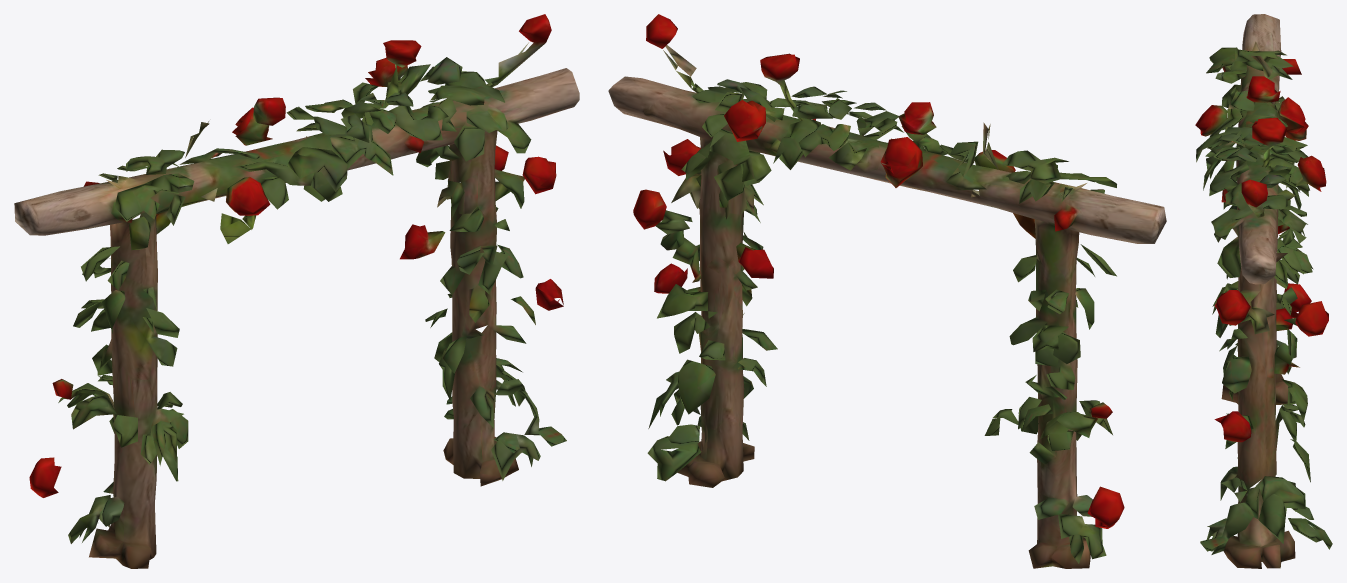
Rendered from rose-vine.glb.
3 views of the same model, side by side, from view 1: azimuth 30°, elevation 25°; view 2: azimuth 150°, elevation 25°; view 3: azimuth 270°, elevation 25° (orthographic). The views are drawn at different scales.
Visible parts, largest first — view 1: tripo_node_b16091c6-176b-4c1c-975e-57cac6b03db9; view 2: tripo_node_b16091c6-176b-4c1c-975e-57cac6b03db9; view 3: tripo_node_b16091c6-176b-4c1c-975e-57cac6b03db9.
Boxes of the visible parts, left/top/right/bottom form: tripo_node_b16091c6-176b-4c1c-975e-57cac6b03db9: left=14, top=14, right=579, bottom=568; tripo_node_b16091c6-176b-4c1c-975e-57cac6b03db9: left=608, top=14, right=1166, bottom=568; tripo_node_b16091c6-176b-4c1c-975e-57cac6b03db9: left=1195, top=14, right=1332, bottom=568.
Bounding box in the file's own units: 0.9993 × 0.7684 × 0.2371.
1 material, 1 textured.
